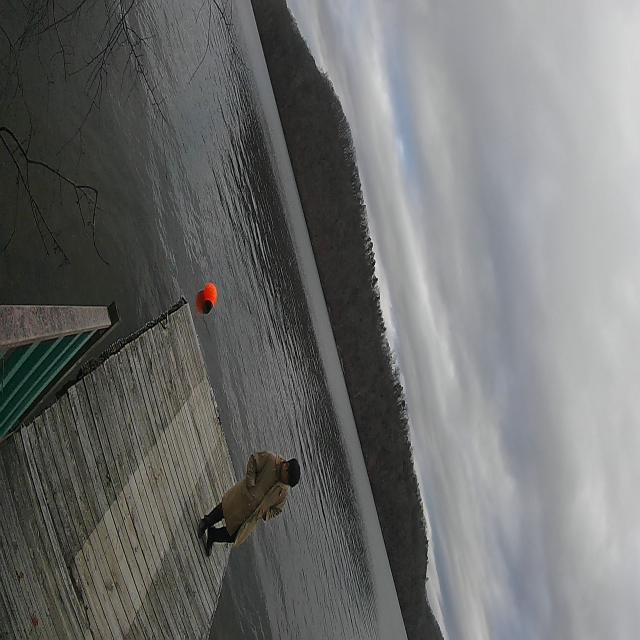Buoy: (201, 280, 220, 318)
